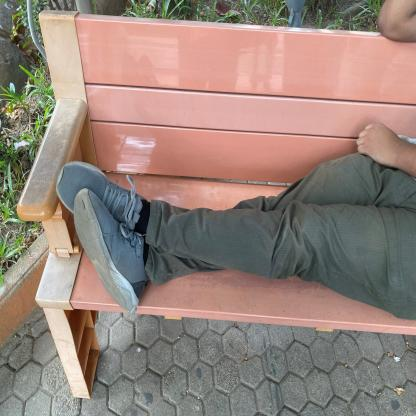leg: (32, 128, 258, 330)
